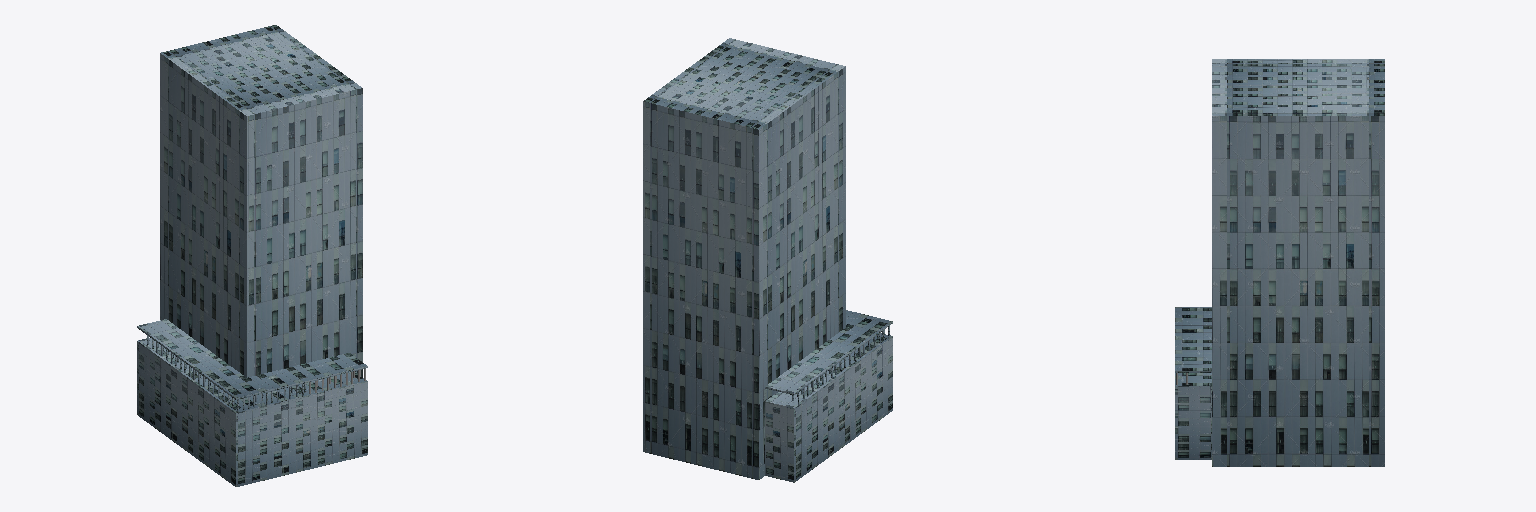
3 renders of one model, left to right at view 1: azimuth 30°, elevation 25°; view 2: azimuth 150°, elevation 25°; view 3: azimuth 270°, elevation 25°, orthographic.
Parts seen in each view (by area): view 1: Box054, Box053, Box055; view 2: Box054, Box053, Box055; view 3: Box054, Box053, Box055.
Boxes of the visible parts, x1,y1,x2,y2 form: Box054: [160, 25, 362, 377]; Box053: [137, 338, 367, 486]; Box055: [137, 319, 367, 399]; Box054: [643, 38, 845, 479]; Box053: [765, 333, 892, 482]; Box055: [765, 310, 892, 394]; Box054: [1212, 59, 1384, 466]; Box053: [1175, 373, 1211, 459]; Box055: [1175, 307, 1211, 372].
Bounding box in the file's own units: 377 × 872 × 473.
Materials: 2 (1 with a texture image).